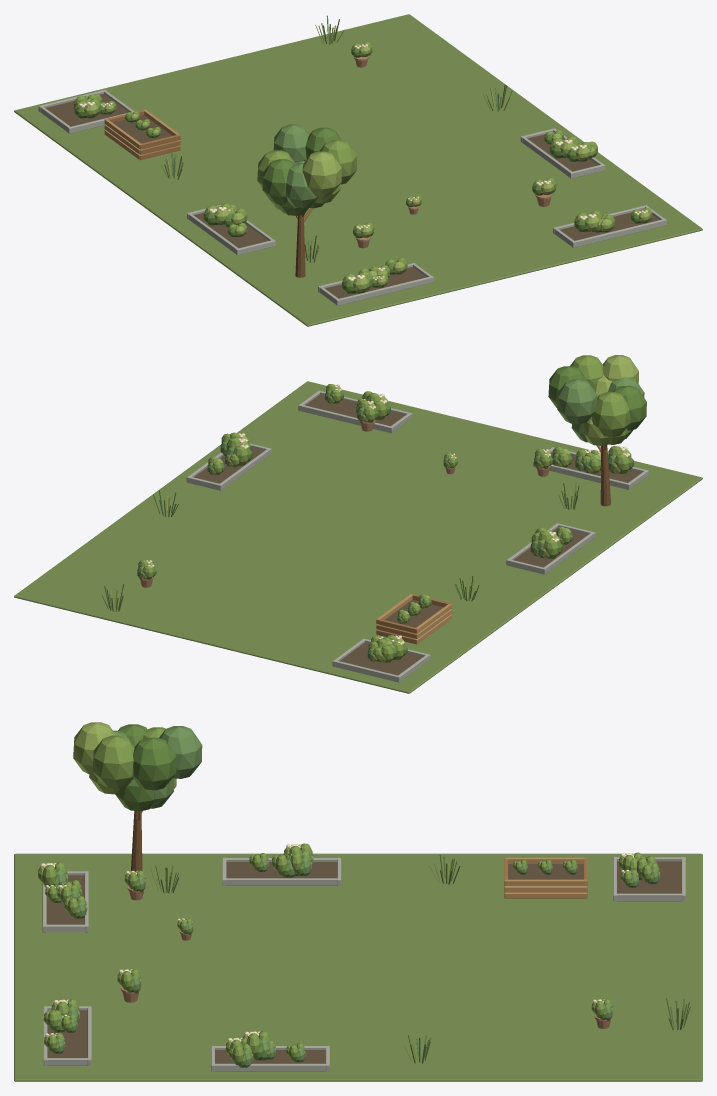
The model's file is SM_PlayerHouse_Garden.fbx.
3 renders of one model, top to bottom at view 1: azimuth 30°, elevation 25°; view 2: azimuth 150°, elevation 25°; view 3: azimuth 270°, elevation 25°, orthographic. The views are drawn at different scales.
Parts seen in each view (by area): view 1: SM_PlayerHouse_Garden; view 2: SM_PlayerHouse_Garden; view 3: SM_PlayerHouse_Garden.
Boxes of the visible parts, x1,y1,x2,y2 form: SM_PlayerHouse_Garden: (14,14,702,326); SM_PlayerHouse_Garden: (14,355,702,693); SM_PlayerHouse_Garden: (14,722,702,1081).
Size of what is drawn, in the model's own units: 1400 by 1800 by 463.
